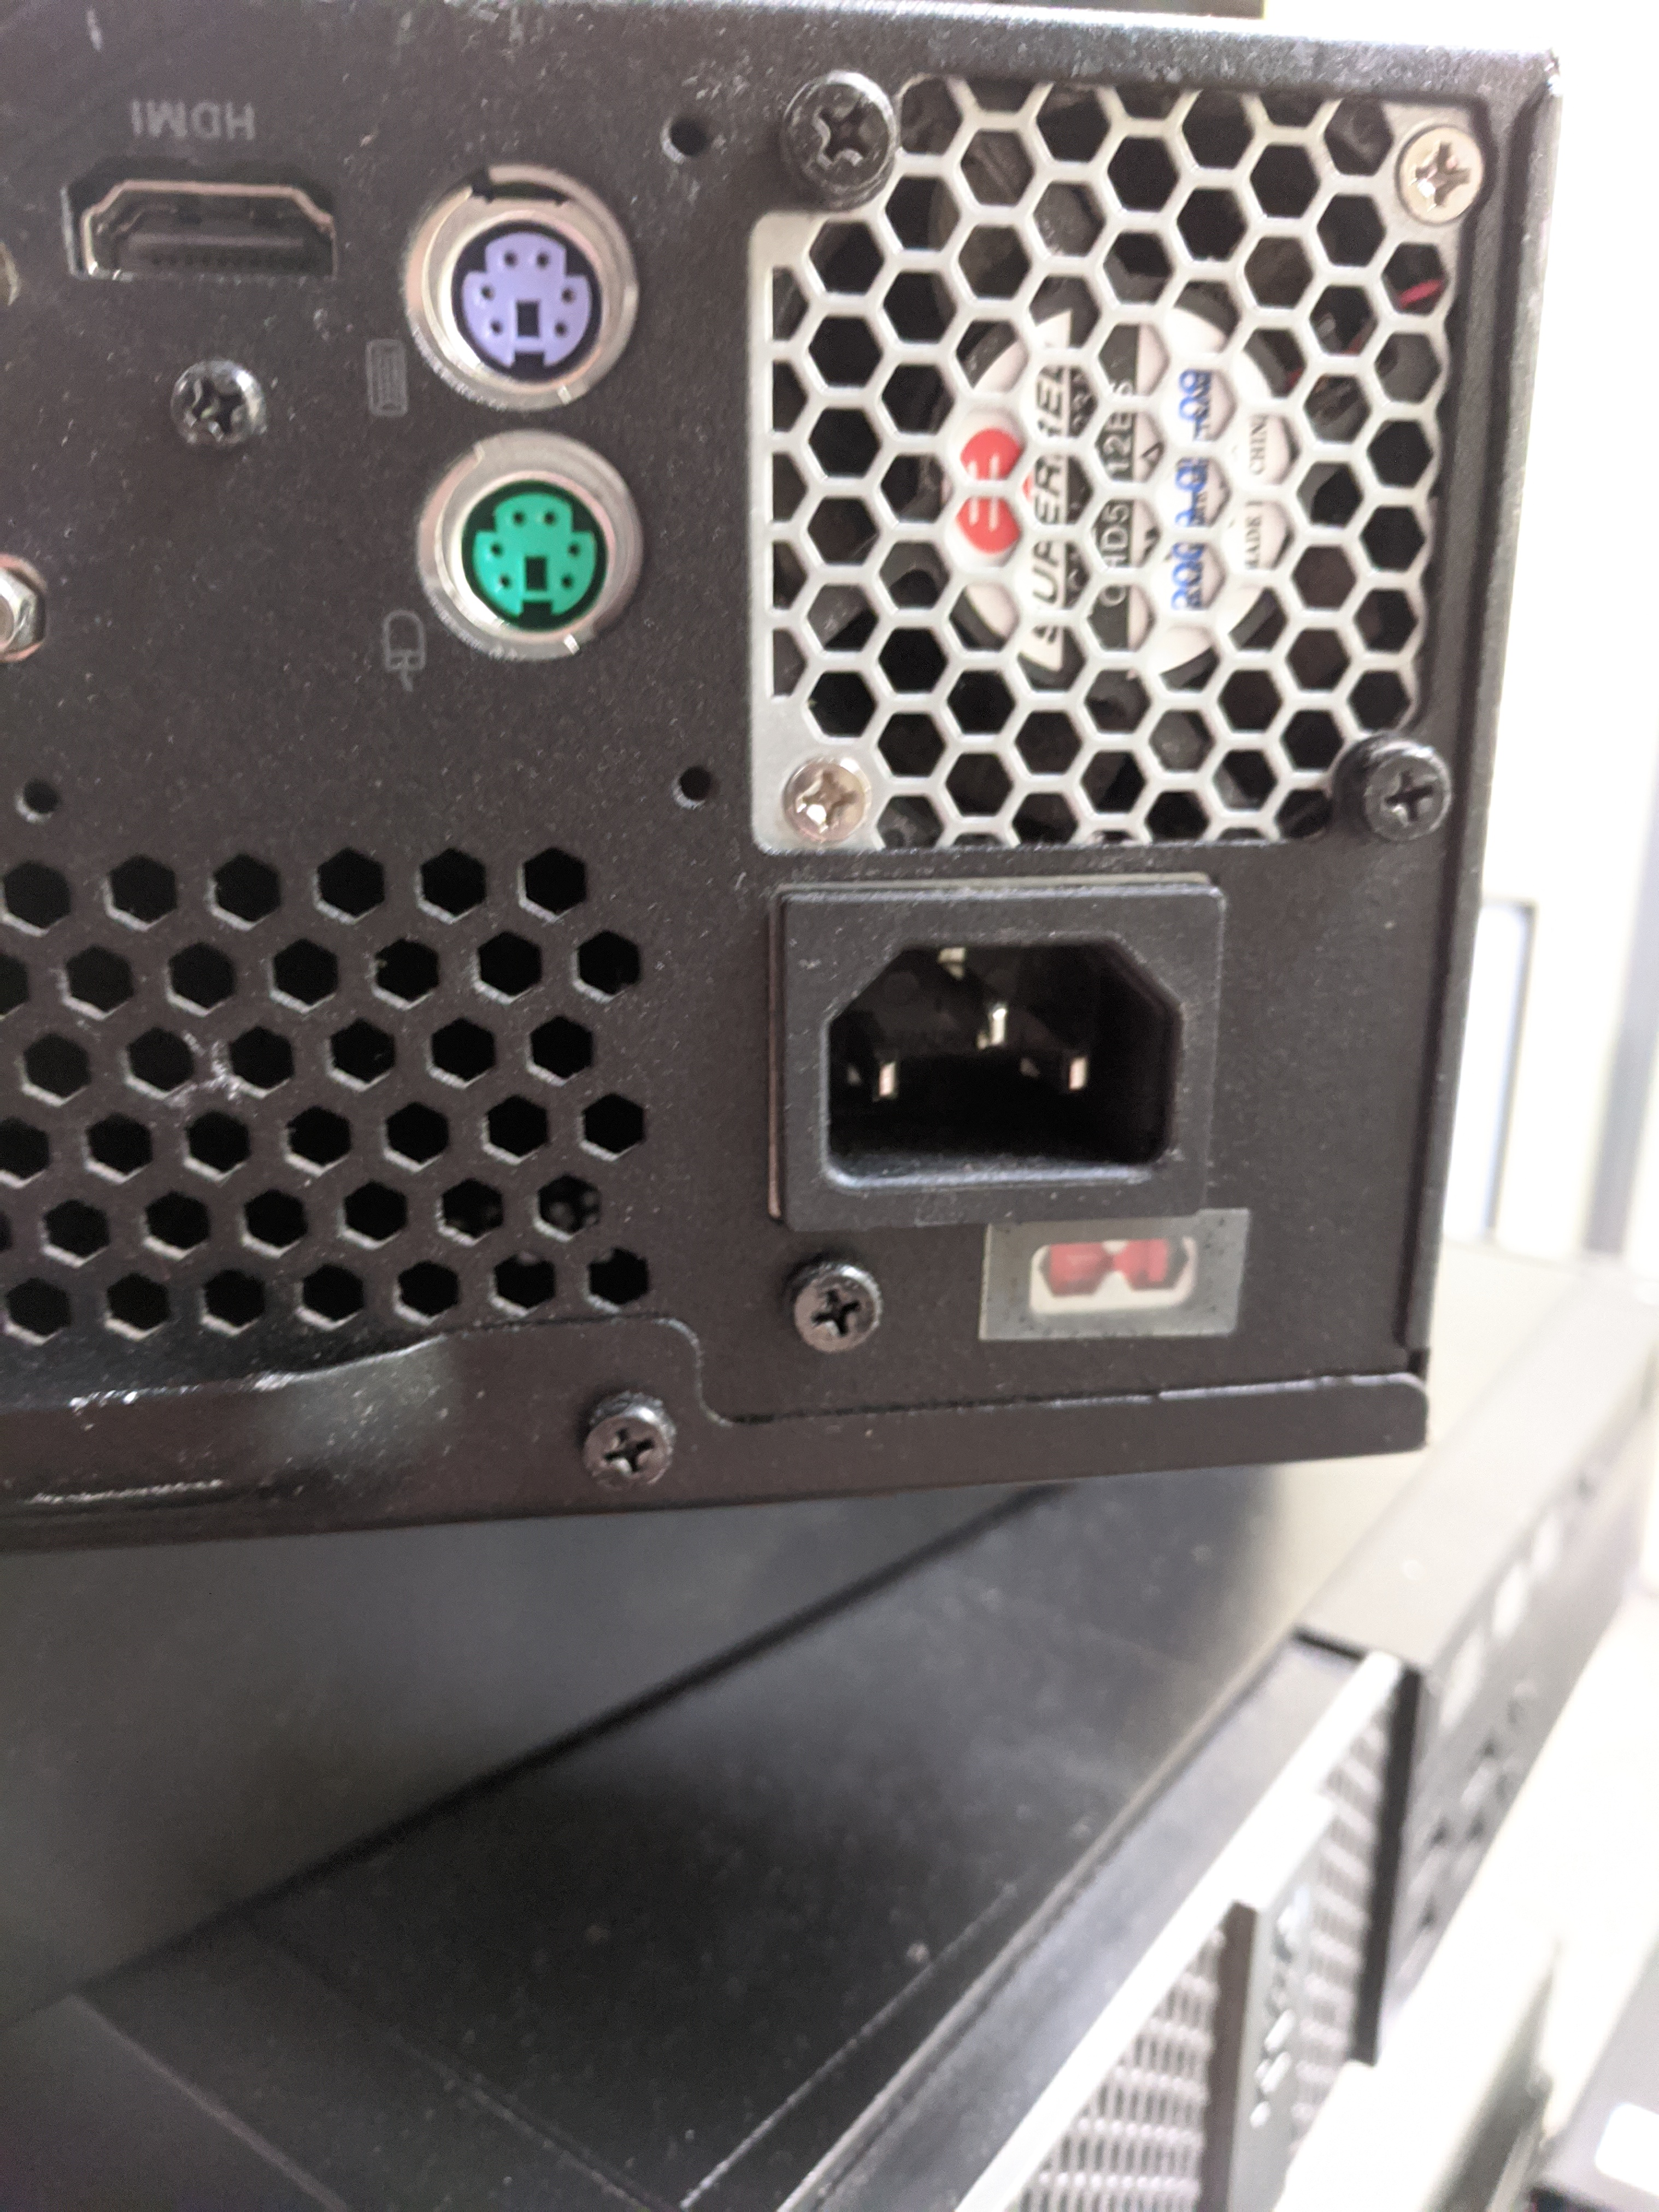cross_recessed_screw: (784, 56, 892, 192), (575, 1392, 685, 1498), (1403, 113, 1502, 226), (1394, 113, 1493, 226), (769, 745, 875, 845), (1363, 730, 1457, 841), (159, 347, 263, 442), (793, 1256, 887, 1352)
